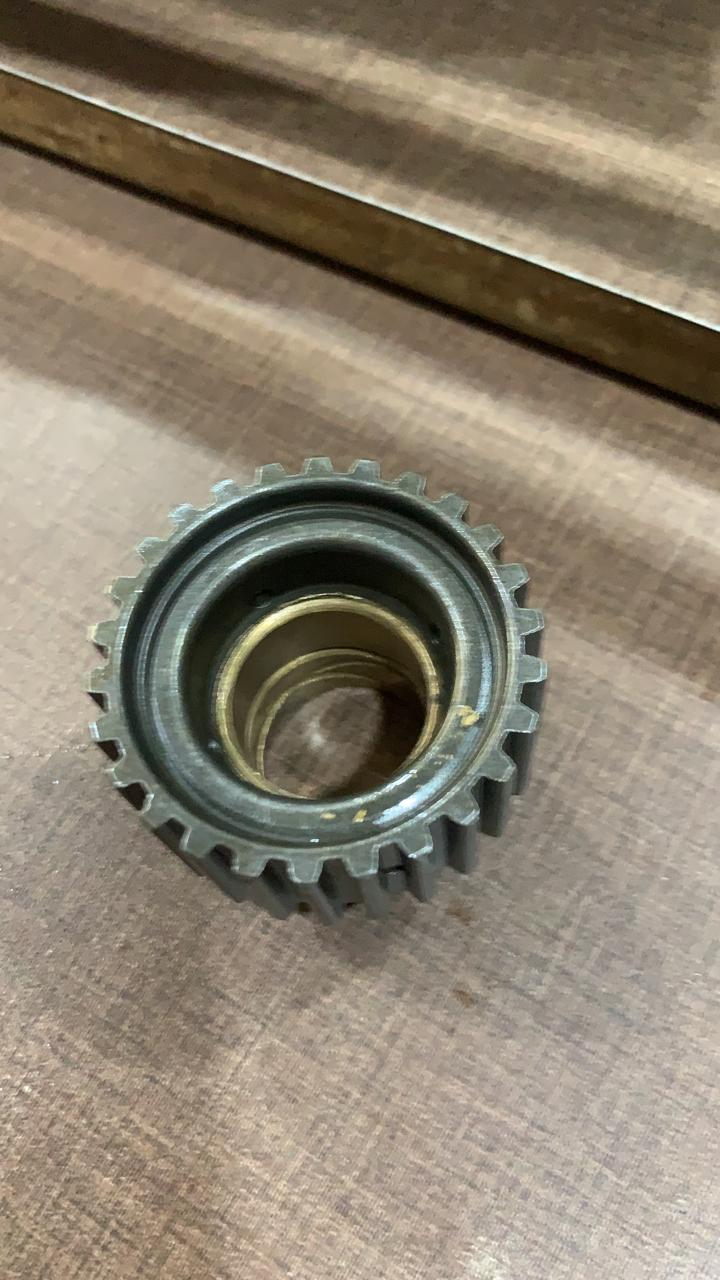engine gear alfa: (47, 426, 597, 978)
